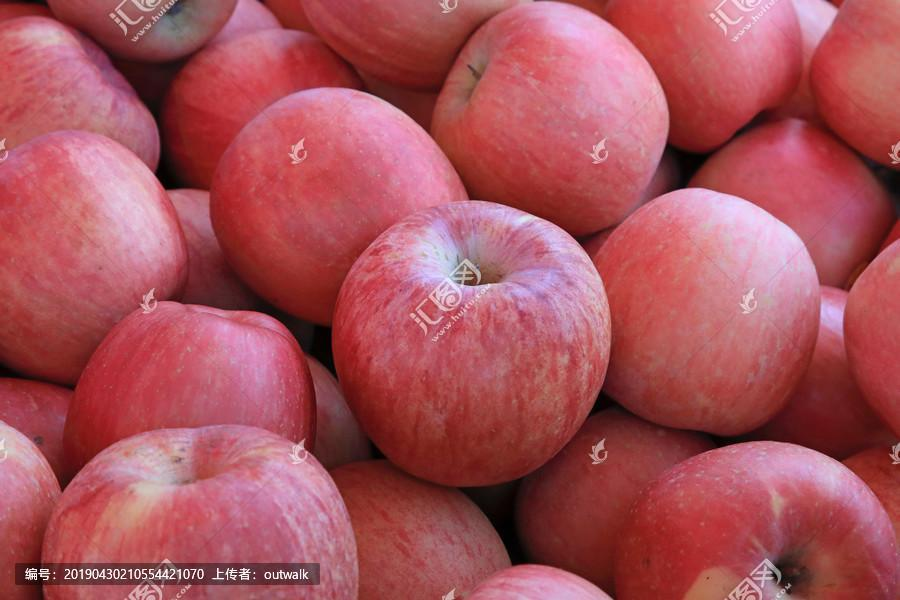apple: (321, 201, 616, 485), (205, 92, 466, 327), (33, 424, 364, 594), (428, 6, 670, 238), (581, 197, 812, 436), (33, 300, 322, 480), (1, 130, 187, 388), (616, 442, 895, 596), (689, 99, 894, 294), (156, 27, 356, 194), (592, 1, 802, 154), (1, 3, 153, 186), (322, 456, 509, 593), (805, 1, 899, 169), (1, 420, 56, 596)
